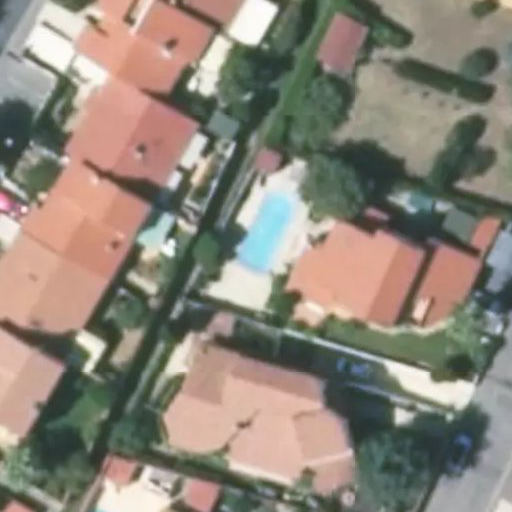pool: (233, 191, 297, 270)
